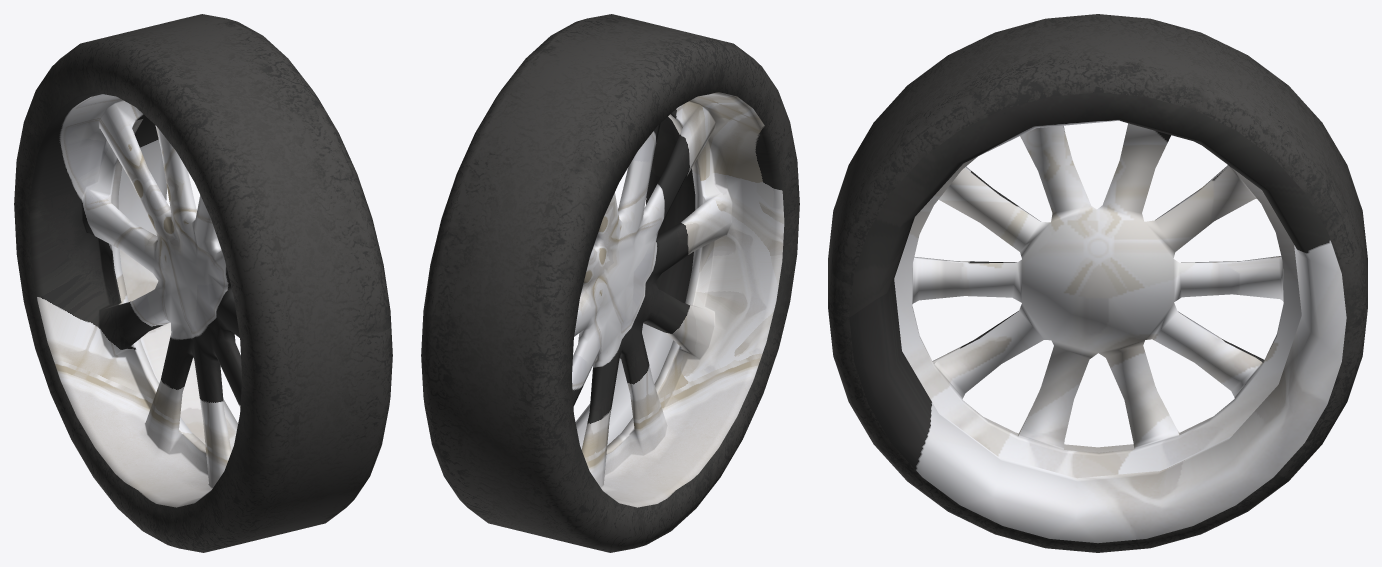
Rendered from wheel.FBX.
The picture shows the model from 3 angles, left to right: view 1: azimuth 30°, elevation 25°; view 2: azimuth 150°, elevation 25°; view 3: azimuth 270°, elevation 25°; orthographic projection. The views are drawn at different scales.
Visible parts, largest first — view 1: Wheel_LOD0; view 2: Wheel_LOD0; view 3: Wheel_LOD0.
Boxes of the visible parts, x1,y1,x2,y2 form: Wheel_LOD0: (14,14,392,552); Wheel_LOD0: (421,14,799,552); Wheel_LOD0: (828,14,1367,552).
Size of what is drawn, in the model's own units: 21.79 by 71.77 by 71.77.
